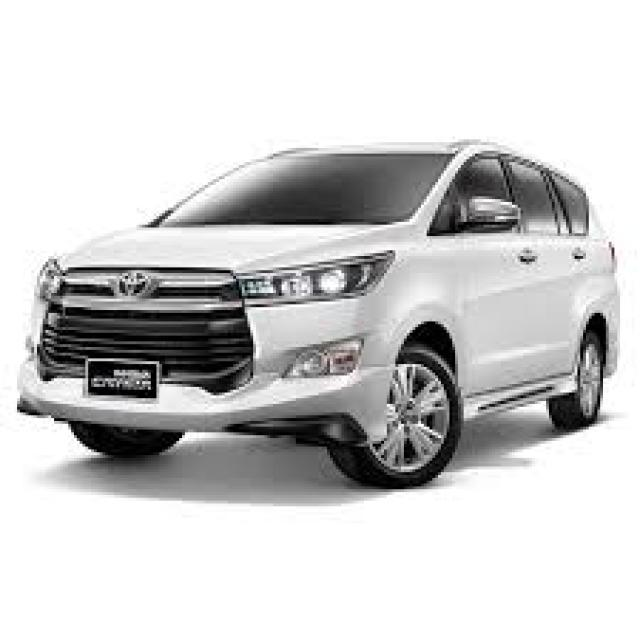light_vehicle: (19, 139, 622, 492)
